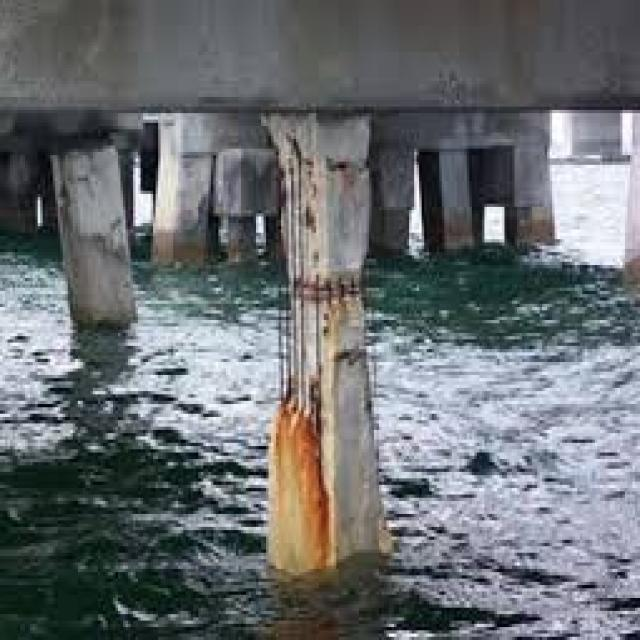Corrosion: (269, 403, 330, 574), (291, 268, 362, 298)
